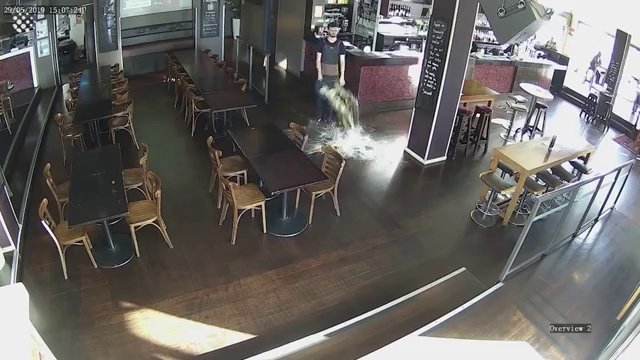face: (328, 26, 338, 37)
